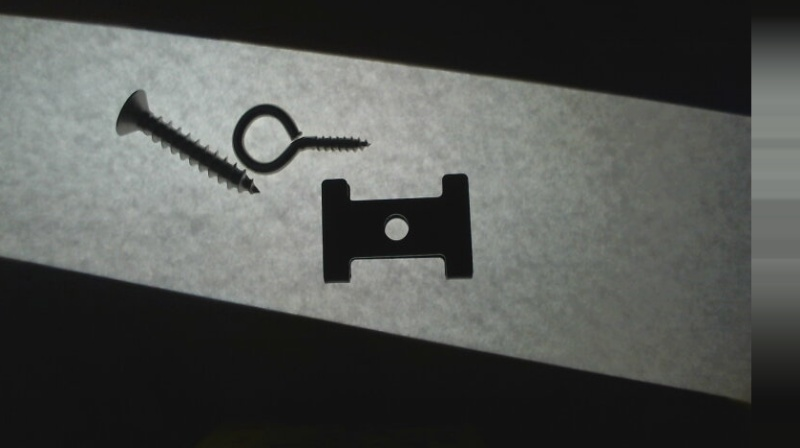O001: (228, 99, 373, 177)
O002: (316, 170, 477, 285)
S001: (112, 84, 265, 196)
